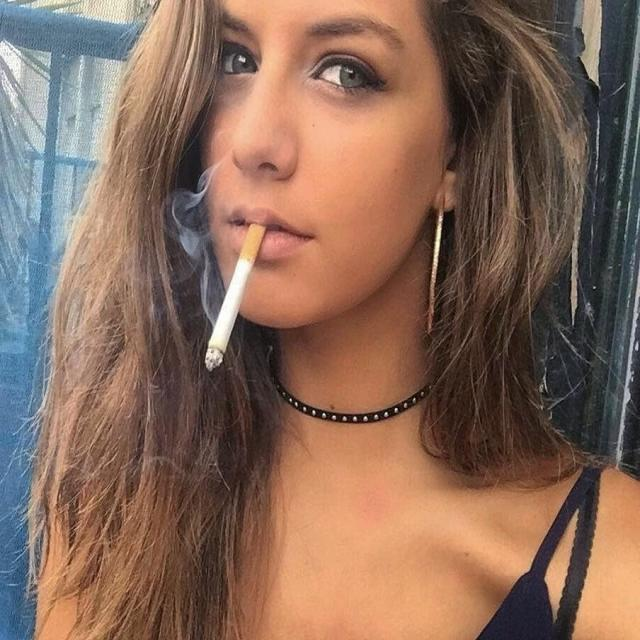smoke: (198, 215, 276, 379)
